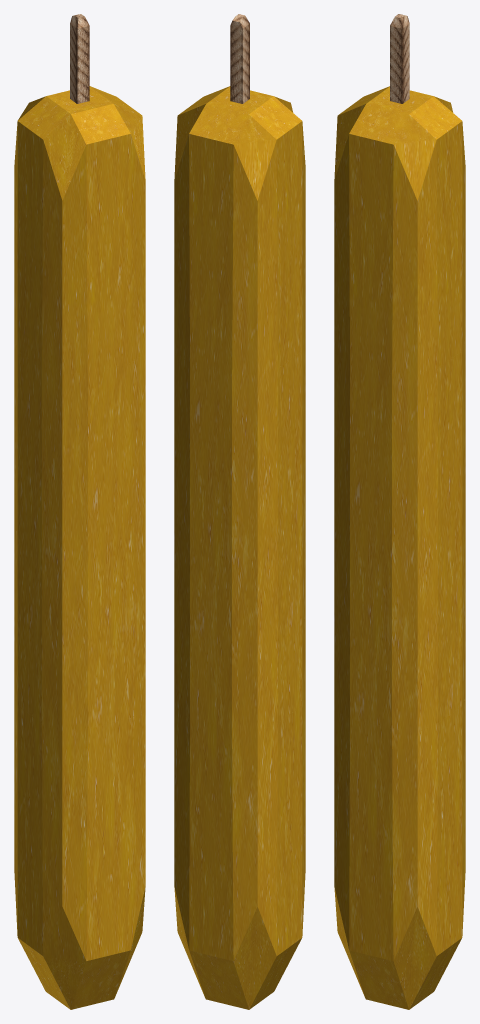
File: Candle.fbx
3 renders of one model, left to right at view 1: azimuth 30°, elevation 25°; view 2: azimuth 150°, elevation 25°; view 3: azimuth 330°, elevation 25°, orthographic.
Parts seen in each view (by area): view 1: Candle, Wick; view 2: Candle, Wick; view 3: Candle, Wick.
Boxes of the visible parts, x1,y1,x2,y2 form: Candle: (14,86,145,1009); Wick: (70,14,89,103); Candle: (174,86,305,1009); Wick: (230,14,249,103); Candle: (334,86,465,1009); Wick: (390,14,409,103).
Size of the model in its own units: 0.5554 by 5.19 by 0.5554.
